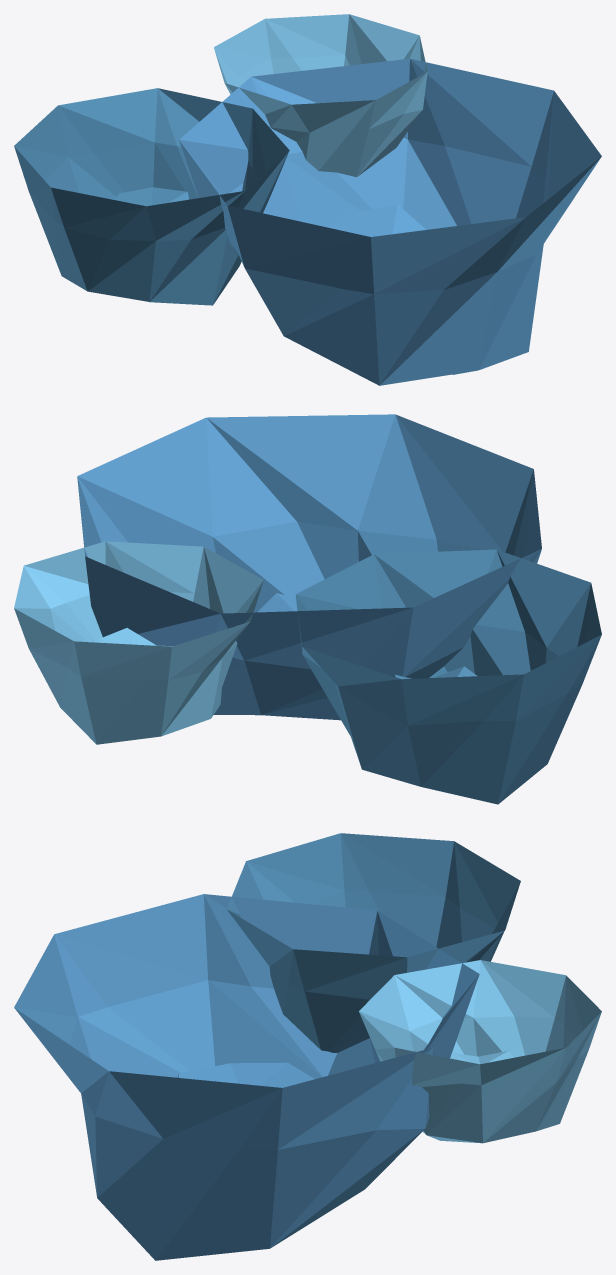
The model's file is sp_plant02.glb.
3 renders of one model, top to bottom at view 1: azimuth 30°, elevation 25°; view 2: azimuth 150°, elevation 25°; view 3: azimuth 270°, elevation 25°, orthographic. The views are drawn at different scales.
Parts seen in each view (by area): view 1: SP_Plant02; view 2: SP_Plant02; view 3: SP_Plant02.
Boxes of the visible parts, x1=… form: SP_Plant02: x1=14, y1=14, x2=601, y2=385; SP_Plant02: x1=14, y1=414, x2=601, y2=804; SP_Plant02: x1=14, y1=833, x2=601, y2=1260.
Bounding box in the file's own units: 73.02 × 29.06 × 71.21.
1 material, 1 textured.
